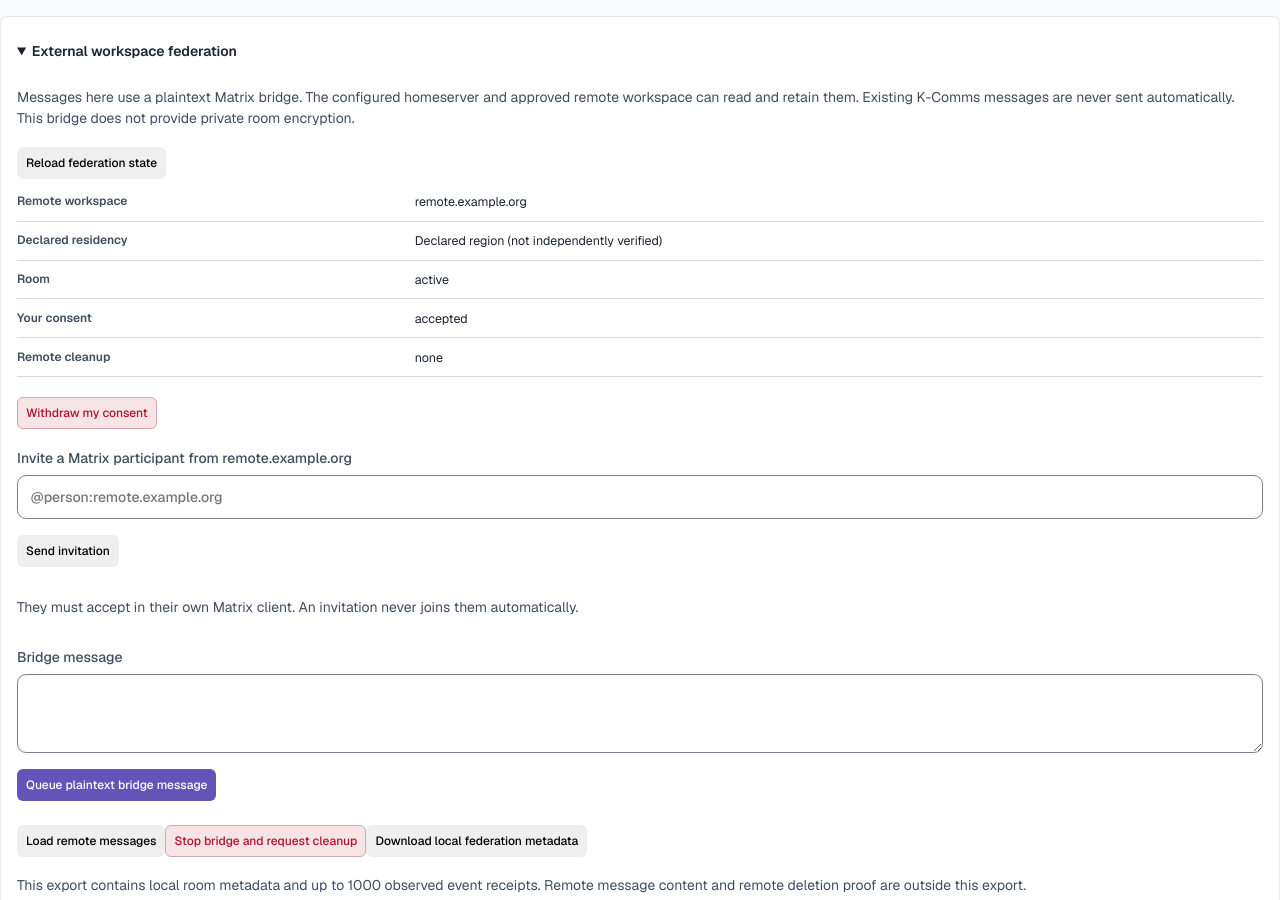
Test case: explicit plaintext federation controls › definitive current-authority denial clears remote plaintext and hides stale controls
The width and height of the screenshot is (1280, 900).
Click the button "Load remote messages": (91, 841) [17,825,166,857]
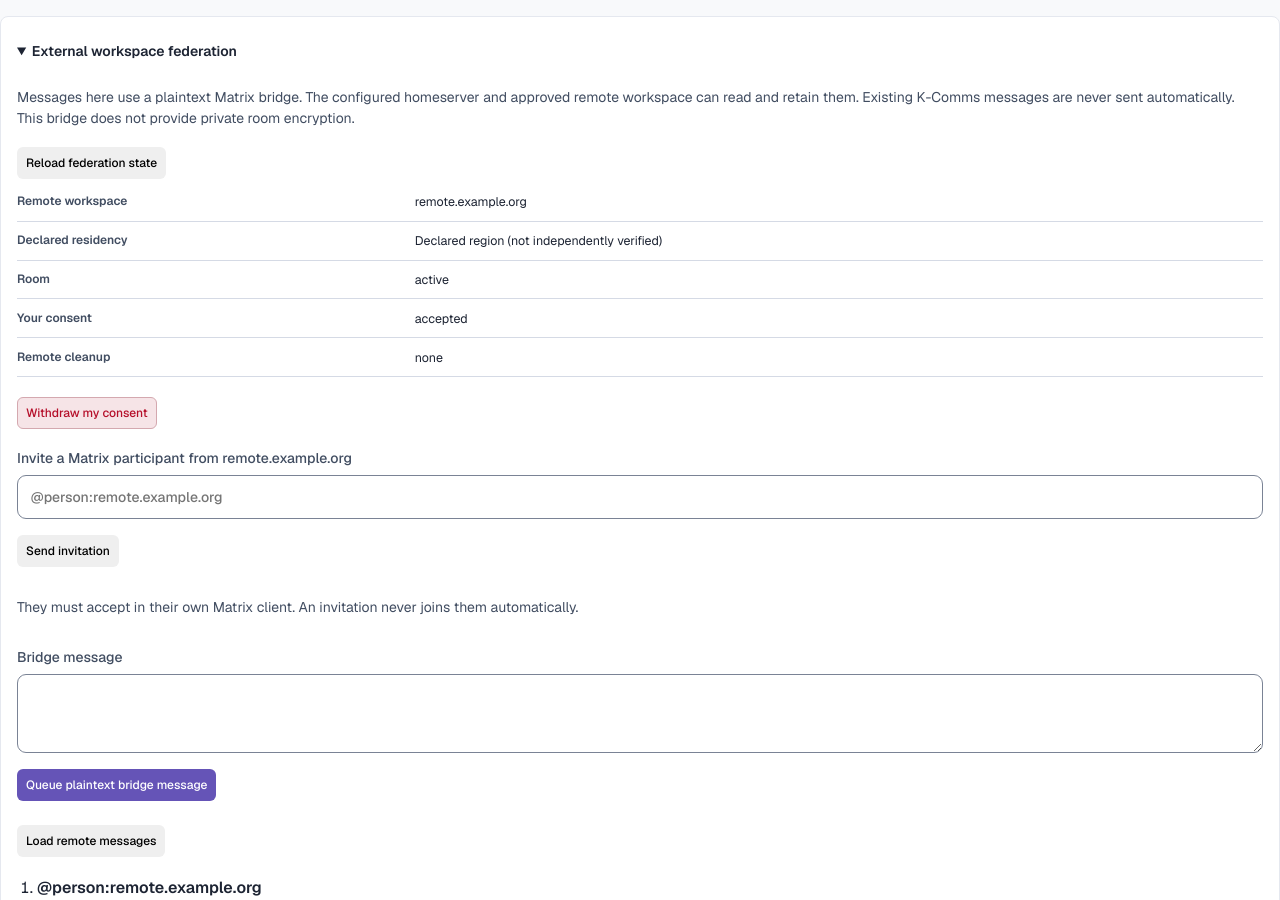
Click the button "Reload federation state": (92, 163) [17,147,166,179]
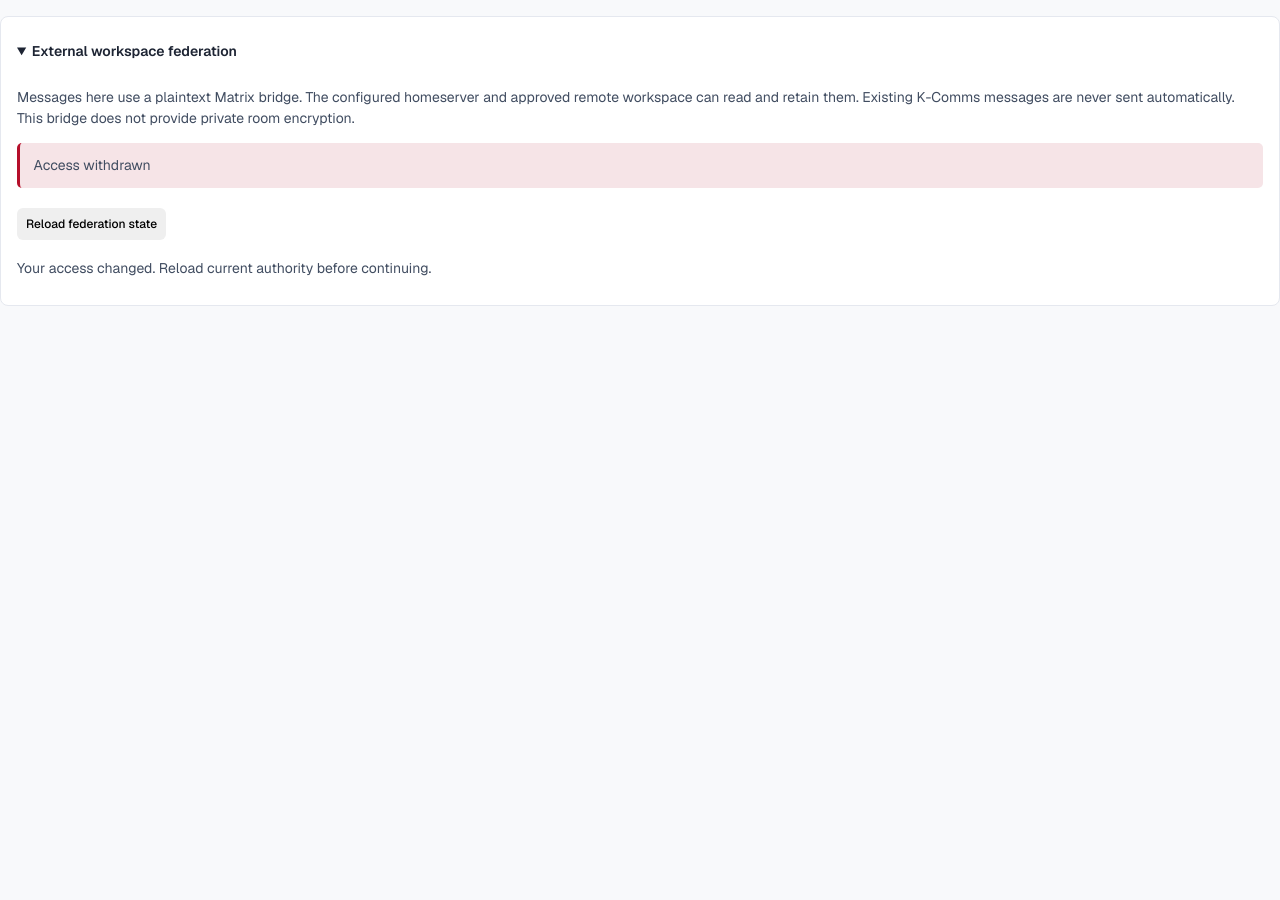
Now the text "Your access changed" is shown, box [17,259,431,277]
Now the button "Queue plaintext bridge message" is gone
